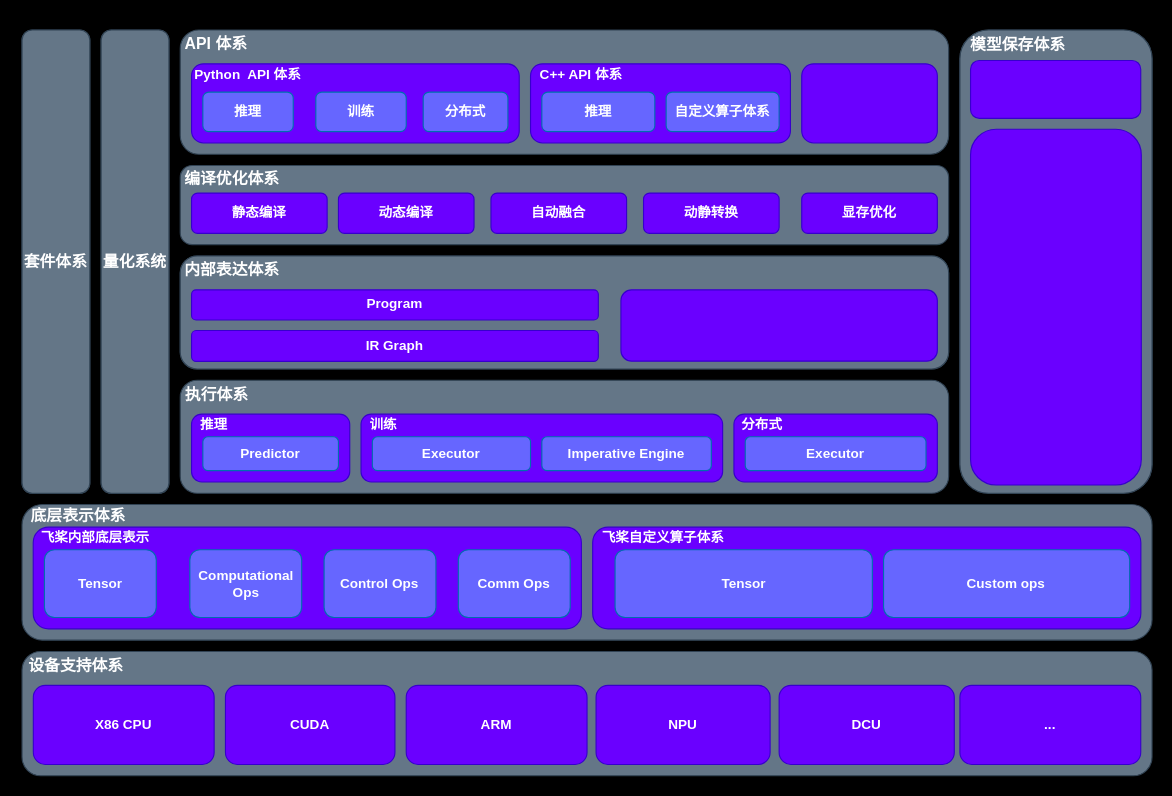
The diagram is 1172 pixels wide and 796 high, and some of its shapes have lost their labels. The shapes that lost their labels are listed below. From the top down, each one's centre as x and y in pixels, then its label:
(869,103): 其他编程语言 (java)
(1055,88): 模型保存API
(778,325): Imperative Autograd
(1055,306): 动静模型保存转换
